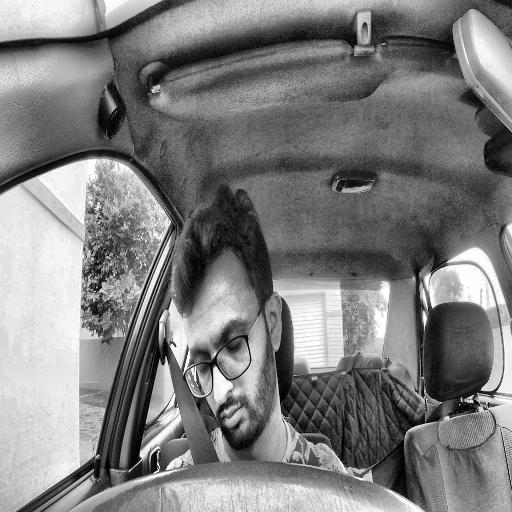drowsy: (171, 186, 284, 452)
